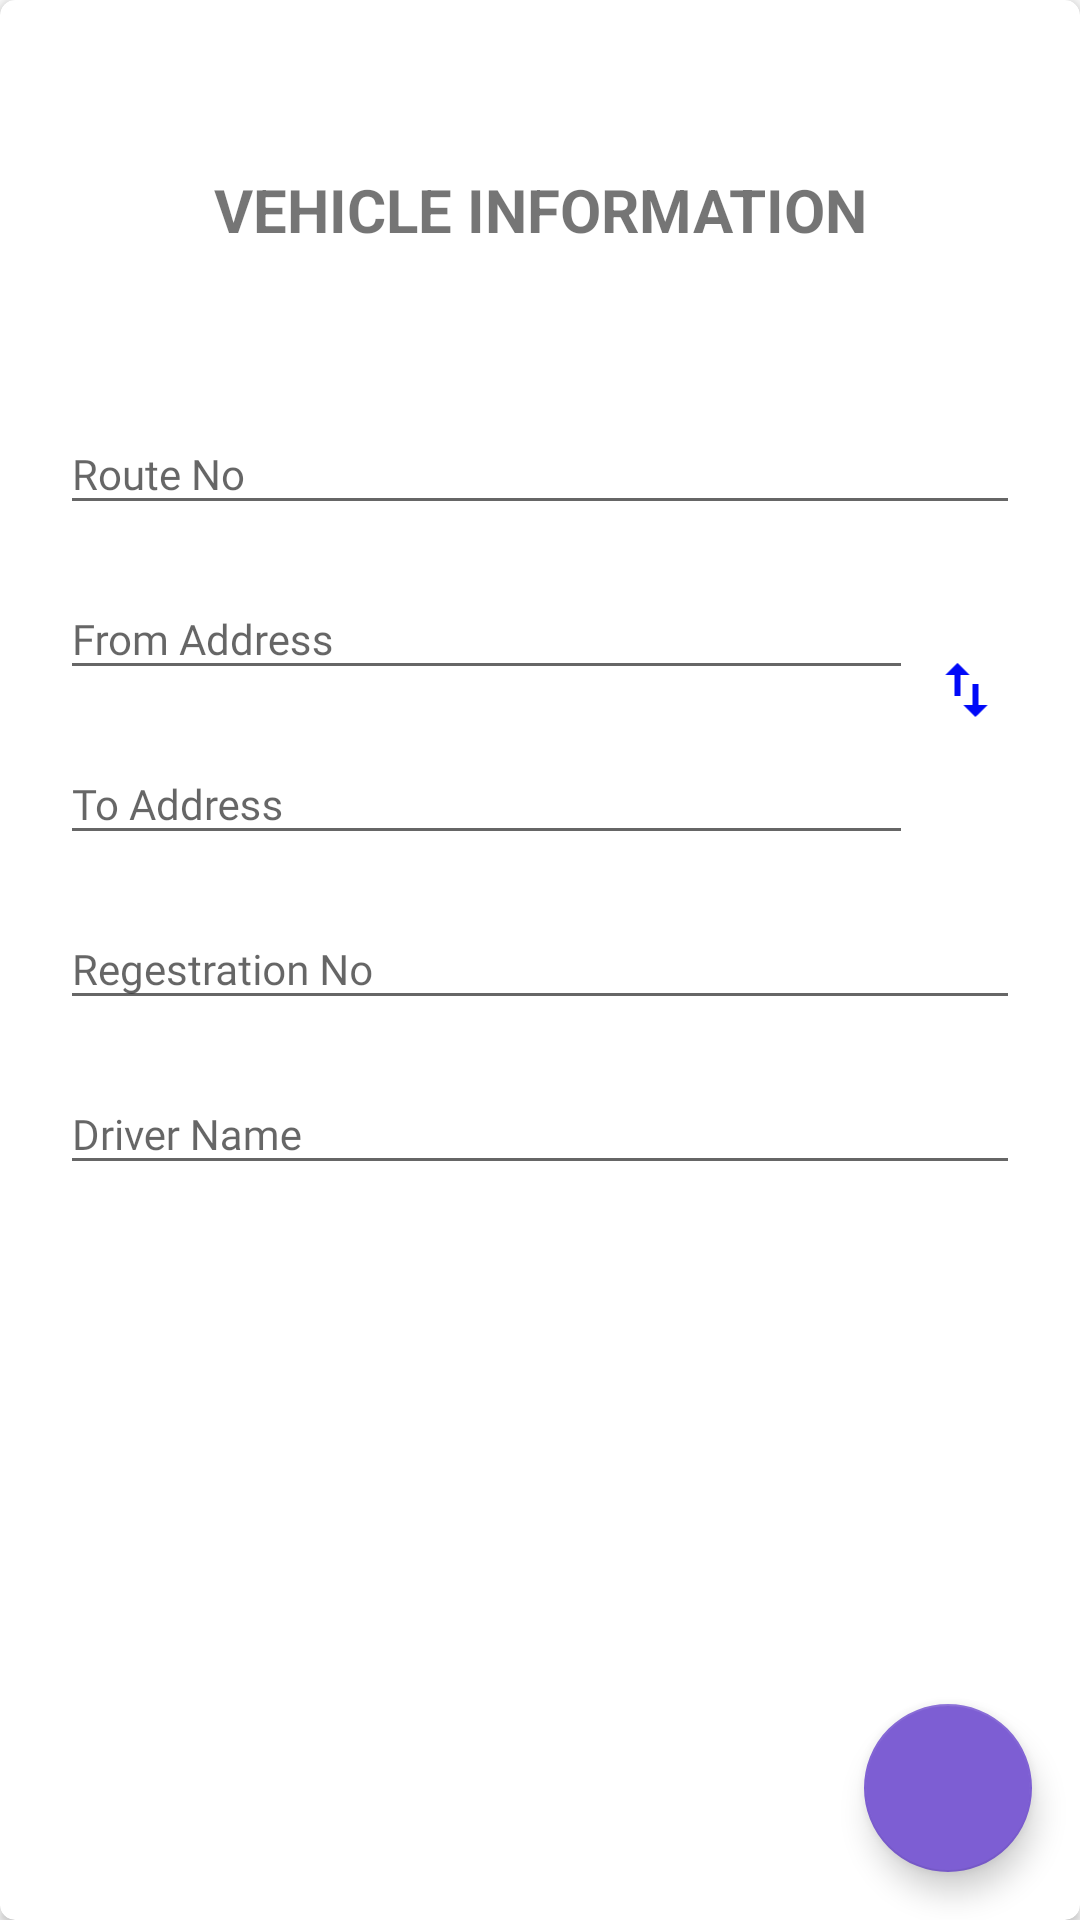

Where icons sit on this 1080 x 1920 app screen, as (left=x1, top=y1, right=x2, bottom=y2):
swap: (left=945, top=663, right=988, bottom=717)
